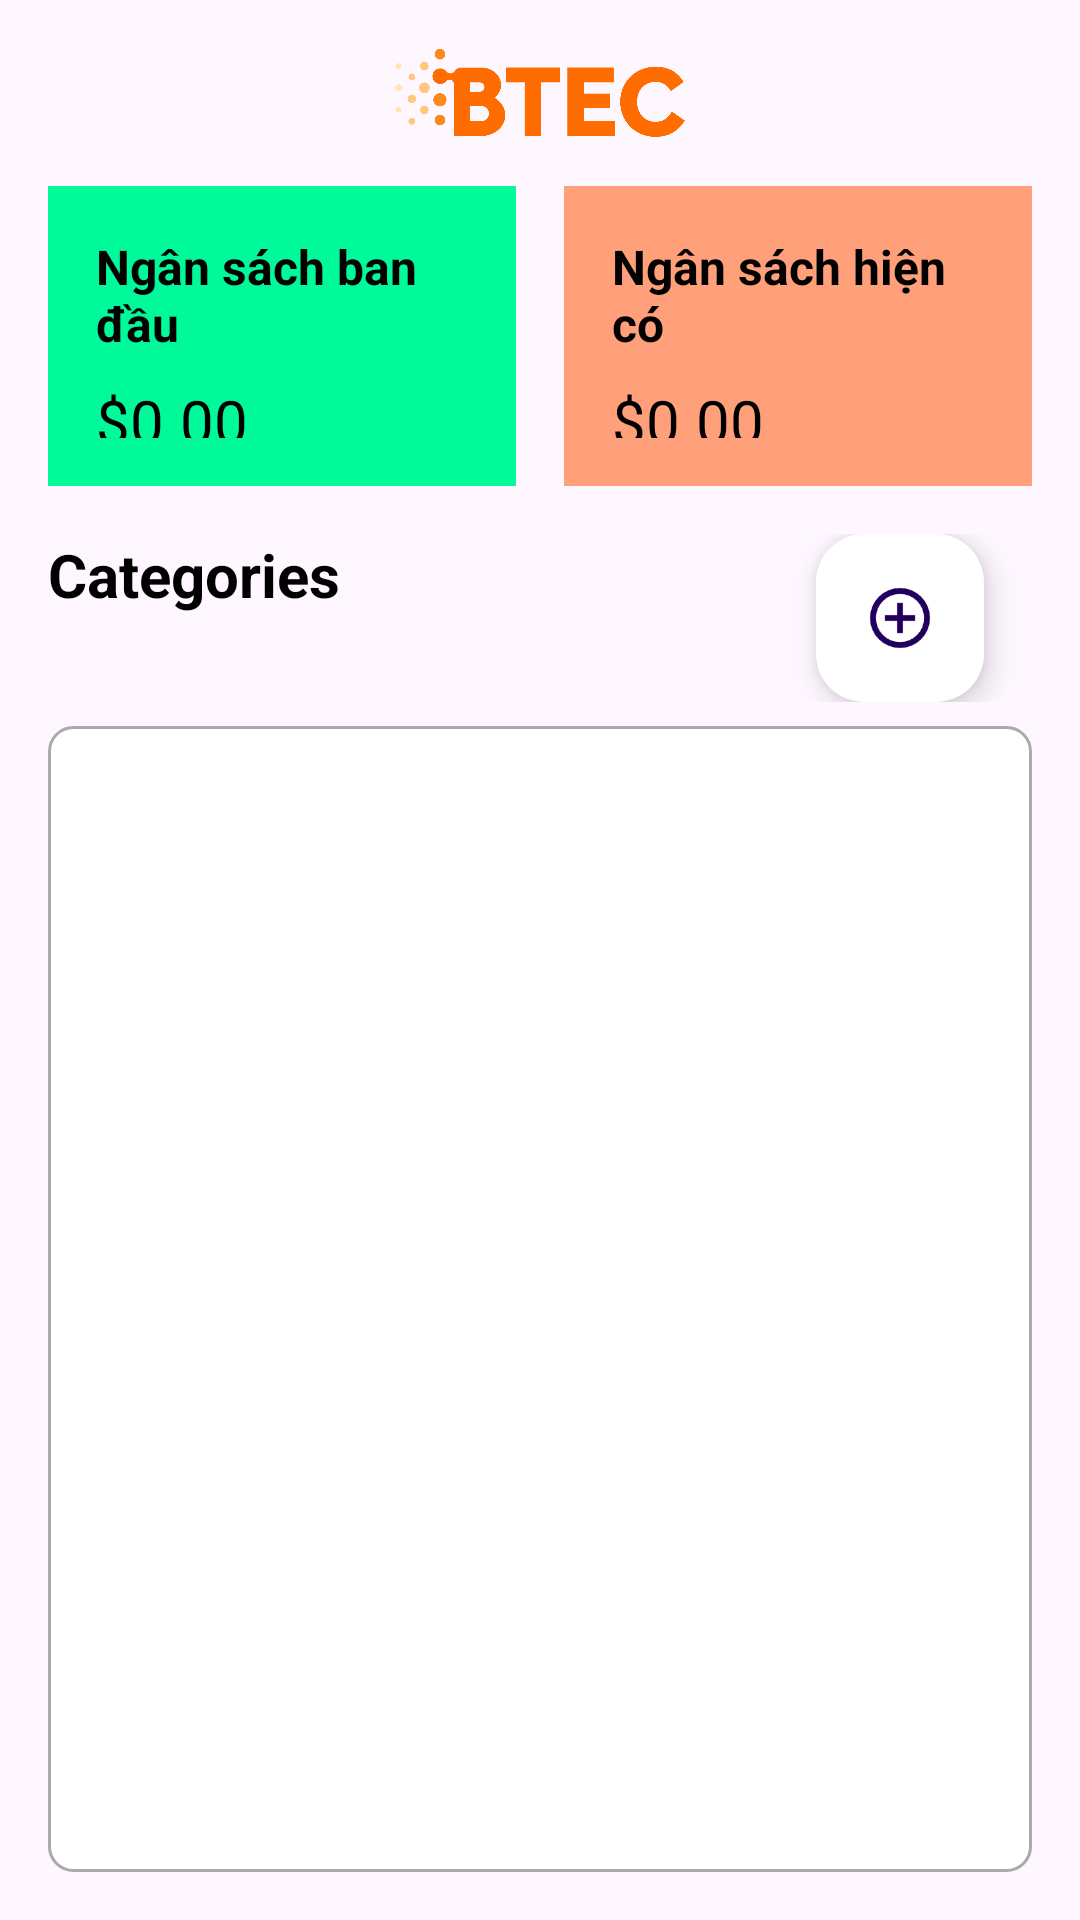

Where icons sit on this 1080px x 1920px app screen, as (x1, y1, x2, y2):
Add Expense: (816, 534, 984, 702)
